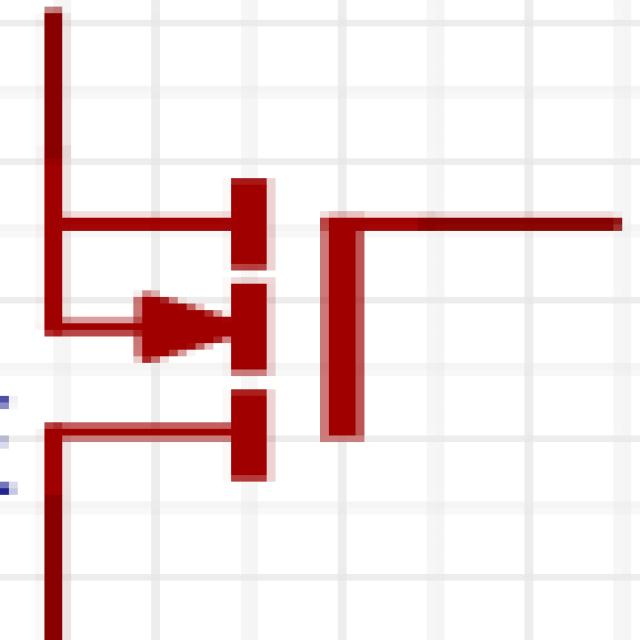pmos: (24, 4, 640, 640)
